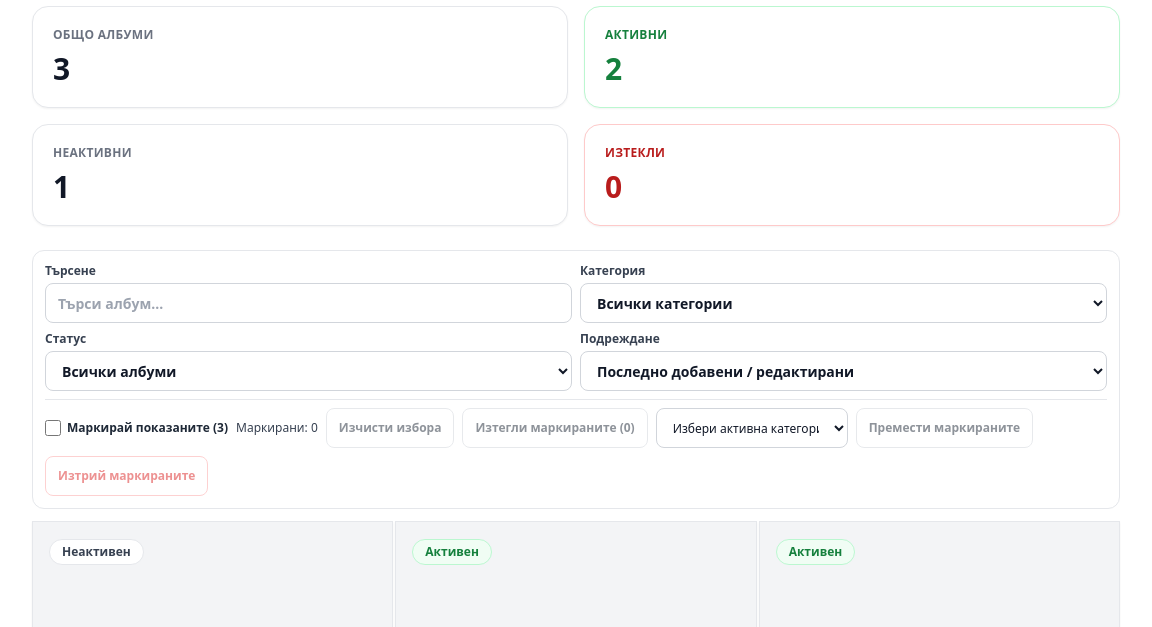
Test case: album management › downloads all categories independently of filters, and blocks duplicate clicks
(page scrolled)
In the field labelled "Търсене": (308, 303) [45,283,572,323], type "Елена"
(page scrolled)
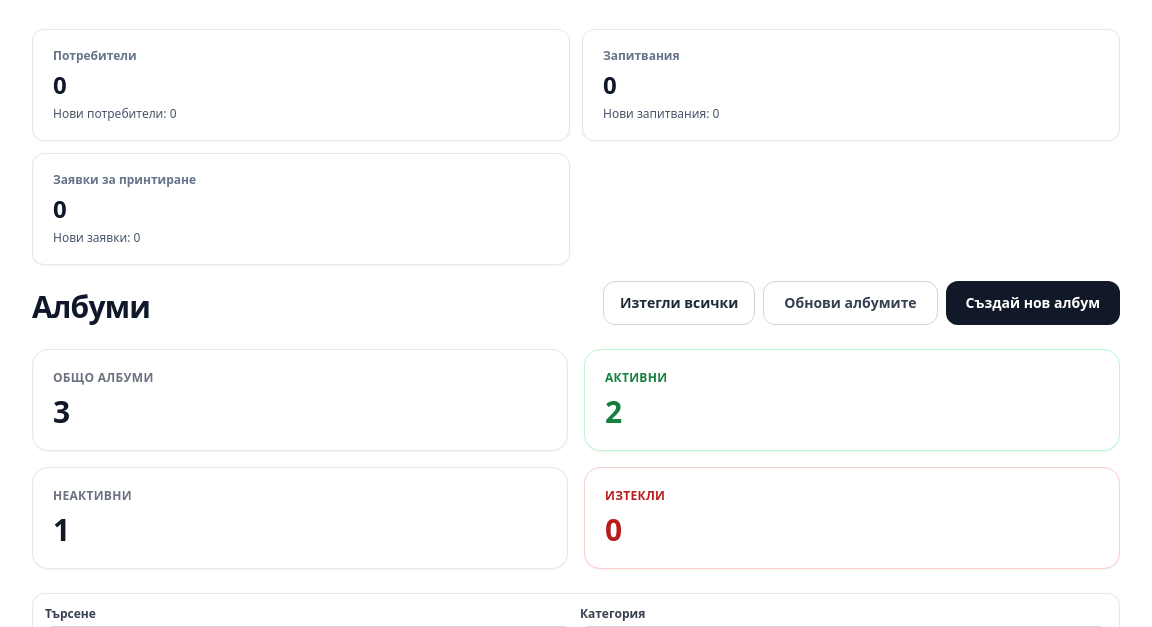
Click the button "Изтегли всички": (679, 303) [603,281,755,325]
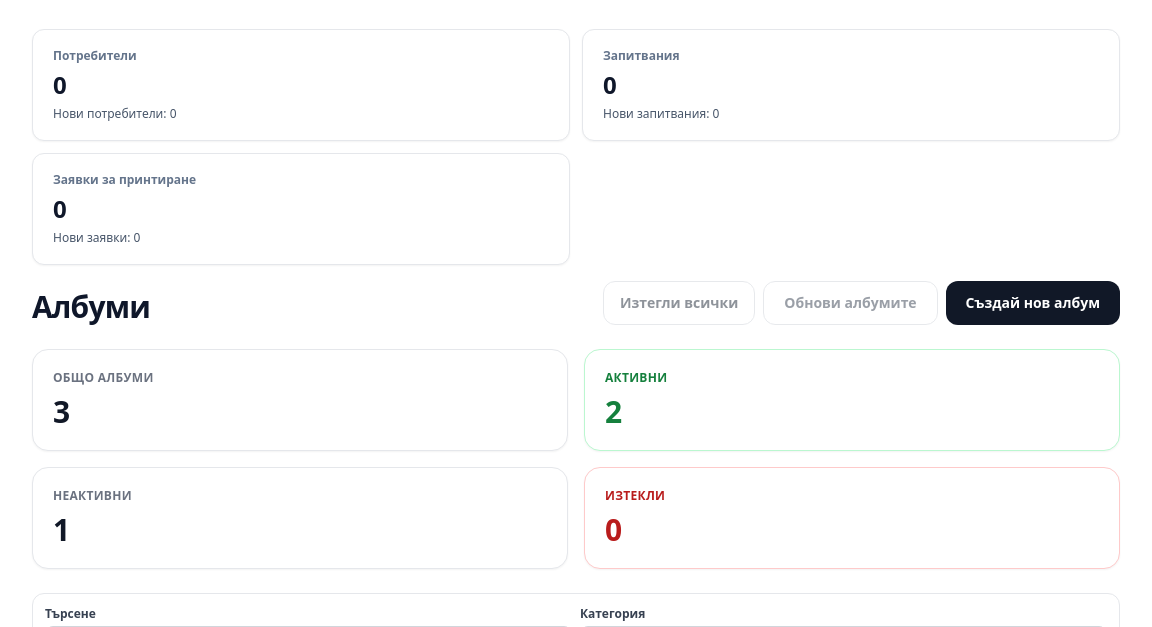
Click the button "Изтегли всички": (679, 303) [603,281,755,325]
(page scrolled)
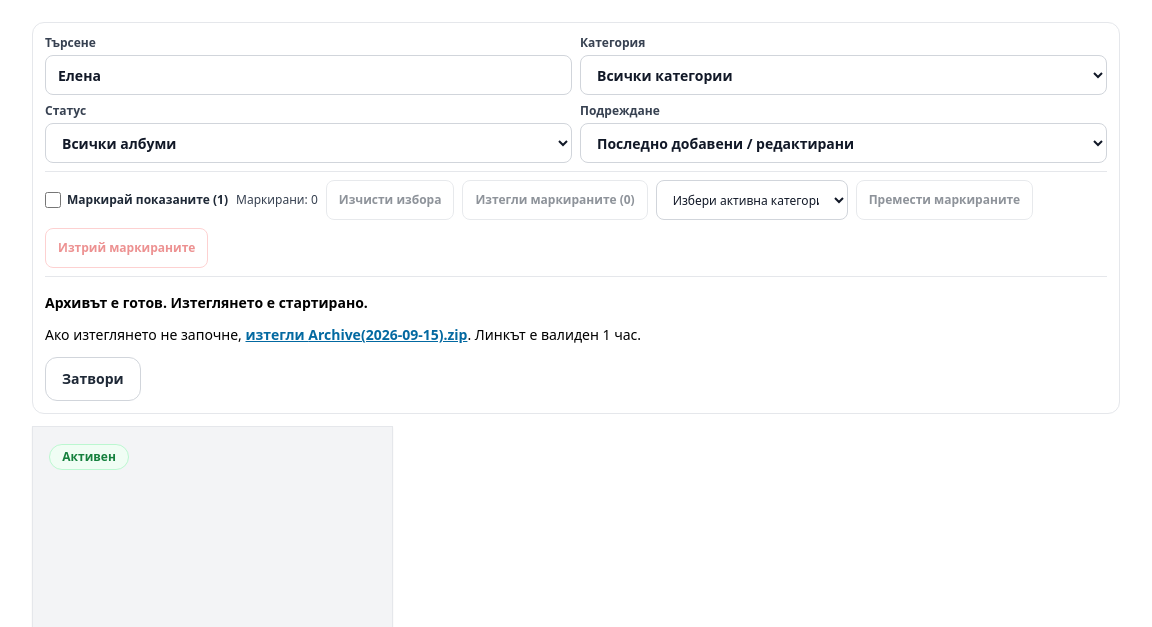
Expected: the text "Архивът е готов. Изтеглянето е стартирано." is shown, [45,293,368,312]
